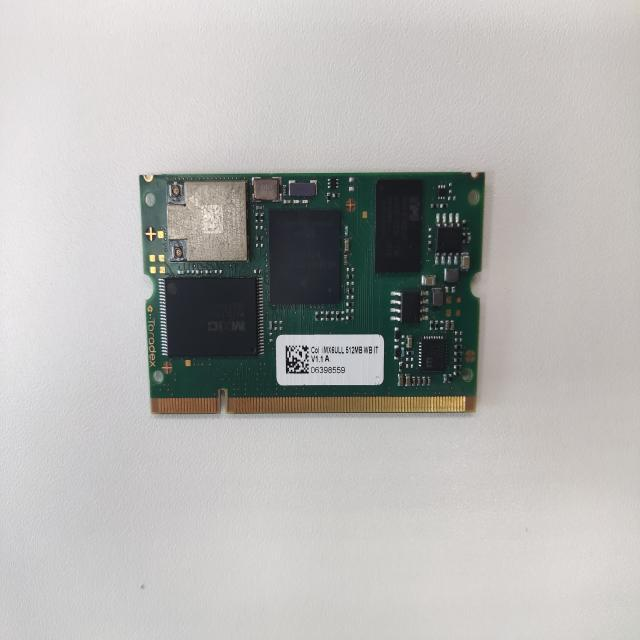som: (128, 157, 498, 429)
